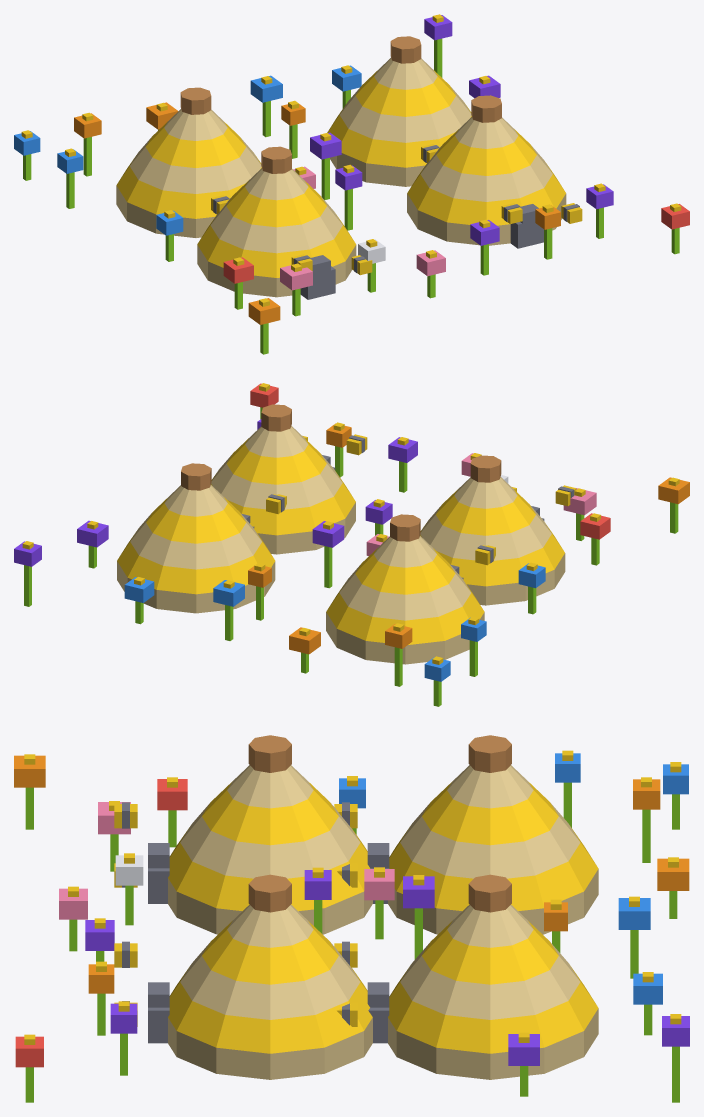
The model's file is hive-1x1-t4.glb.
The picture shows the model from 3 angles, top to bottom: view 1: azimuth 30°, elevation 25°; view 2: azimuth 150°, elevation 25°; view 3: azimuth 270°, elevation 25°; orthographic projection. The views are drawn at different scales.
Parts seen in each view (by area): view 1: hive-1x1-t4; view 2: hive-1x1-t4; view 3: hive-1x1-t4.
Part boxes in pixels (bbox=[...]): hive-1x1-t4: bbox=[14, 14, 689, 354]; hive-1x1-t4: bbox=[14, 383, 689, 706]; hive-1x1-t4: bbox=[14, 735, 689, 1102].
Bounding box in the file's own units: 0.9837 × 0.2415 × 0.9834.
1 material, 1 textured.
